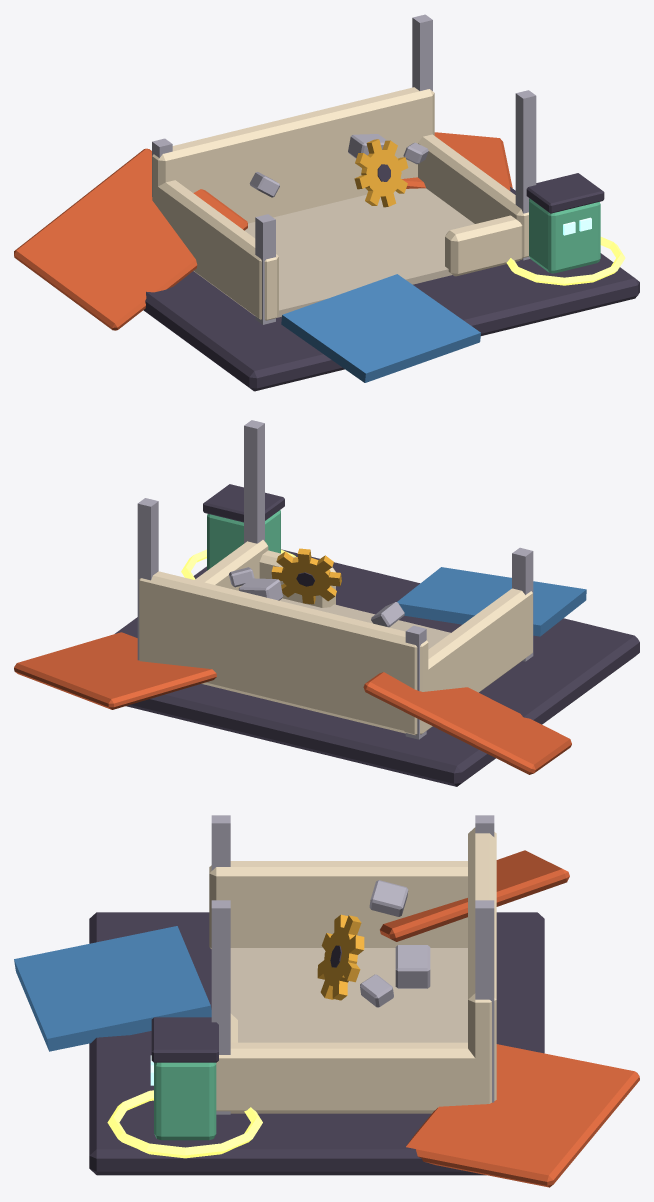
Rendered from MOONSHIFT_FAC_Workshop_Dismantled.glb.
3 views of the same model, one above another, from view 1: azimuth 30°, elevation 25°; view 2: azimuth 150°, elevation 25°; view 3: azimuth 270°, elevation 25° (orthographic). The views are drawn at different scales.
Visible parts, largest first — view 1: Workshop_Dismantled_Slab, Workshop_Dismantled_WallBack, Workshop_Dismantled_RoofPanelA, Workshop_Dismantled_Floor, Workshop_Dismantled_DoorFallen, Workshop_Dismantled_WallLeft, Workshop_Dismantled_WallRight, Workshop_Dismantled_SBat_Body, Workshop_Dismantled_WallFrontStub, Workshop_Dismantled_Post1, Workshop_Dismantled_RoofPanelB, Workshop_Dismantled_SBat_Cap (+5 smaller); view 2: Workshop_Dismantled_WallBack, Workshop_Dismantled_Slab, Workshop_Dismantled_RoofPanelA, Workshop_Dismantled_RoofPanelB, Workshop_Dismantled_WallLeft, Workshop_Dismantled_DoorFallen, Workshop_Dismantled_Post1, Workshop_Dismantled_SBat_Body, Workshop_Dismantled_WallRight, Workshop_Dismantled_Post3, Workshop_Dismantled_SBat_Cap, Workshop_Dismantled_GearLoose_Disk (+6 smaller); view 3: Workshop_Dismantled_Slab, Workshop_Dismantled_Floor, Workshop_Dismantled_RoofPanelB, Workshop_Dismantled_WallRight, Workshop_Dismantled_WallLeft, Workshop_Dismantled_DoorFallen, Workshop_Dismantled_WallBack, Workshop_Dismantled_SBat_Body, Workshop_Dismantled_RoofPanelA, Workshop_Dismantled_SBat_Cap, Workshop_Dismantled_Post1, Workshop_Dismantled_SBat_Highlight (+6 smaller).
Part boxes in pixels (x1,y1,x2,y2): Workshop_Dismantled_Slab: (143,187,639,391); Workshop_Dismantled_WallBack: (152,87,434,223); Workshop_Dismantled_RoofPanelA: (14,148,247,330); Workshop_Dismantled_Floor: (245,188,474,317); Workshop_Dismantled_DoorFallen: (281,274,480,382); Workshop_Dismantled_WallLeft: (158,180,278,320); Workshop_Dismantled_WallRight: (418,134,529,259); Workshop_Dismantled_SBat_Body: (529,198,600,273); Workshop_Dismantled_WallFrontStub: (445,215,522,276); Workshop_Dismantled_Post1: (515,90,536,260); Workshop_Dismantled_RoofPanelB: (402,132,512,190); Workshop_Dismantled_SBat_Cap: (526,173,604,213); Workshop_Dismantled_WallBack: (139,571,428,733); Workshop_Dismantled_Slab: (115,549,639,786); Workshop_Dismantled_RoofPanelA: (363,672,571,774); Workshop_Dismantled_RoofPanelB: (14,632,216,709); Workshop_Dismantled_WallLeft: (404,588,532,735); Workshop_Dismantled_DoorFallen: (397,567,586,636); Workshop_Dismantled_Post1: (244,420,264,543); Workshop_Dismantled_SBat_Body: (207,510,280,570); Workshop_Dismantled_WallRight: (139,540,268,662); Workshop_Dismantled_Post3: (137,498,158,660); Workshop_Dismantled_SBat_Cap: (203,484,284,522); Workshop_Dismantled_GearLoose_Disk: (282,557,330,596); Workshop_Dismantled_Slab: (89,912,544,1175); Workshop_Dismantled_Floor: (230,948,467,1042); Workshop_Dismantled_RoofPanelB: (406,1044,639,1187); Workshop_Dismantled_WallRight: (216,1042,496,1113); Workshop_Dismantled_WallLeft: (209,861,467,948); Workshop_Dismantled_DoorFallen: (14,926,211,1051); Workshop_Dismantled_WallBack: (468,827,496,1104); Workshop_Dismantled_SBat_Body: (154,1062,216,1140); Workshop_Dismantled_RoofPanelA: (380,850,569,941); Workshop_Dismantled_SBat_Cap: (151,1017,218,1062); Workshop_Dismantled_Post1: (211,900,230,1114); Workshop_Dismantled_SBat_Highlight: (107,1090,262,1158).
Bounding box in the file's own units: 3.06 × 1.11 × 2.61.
